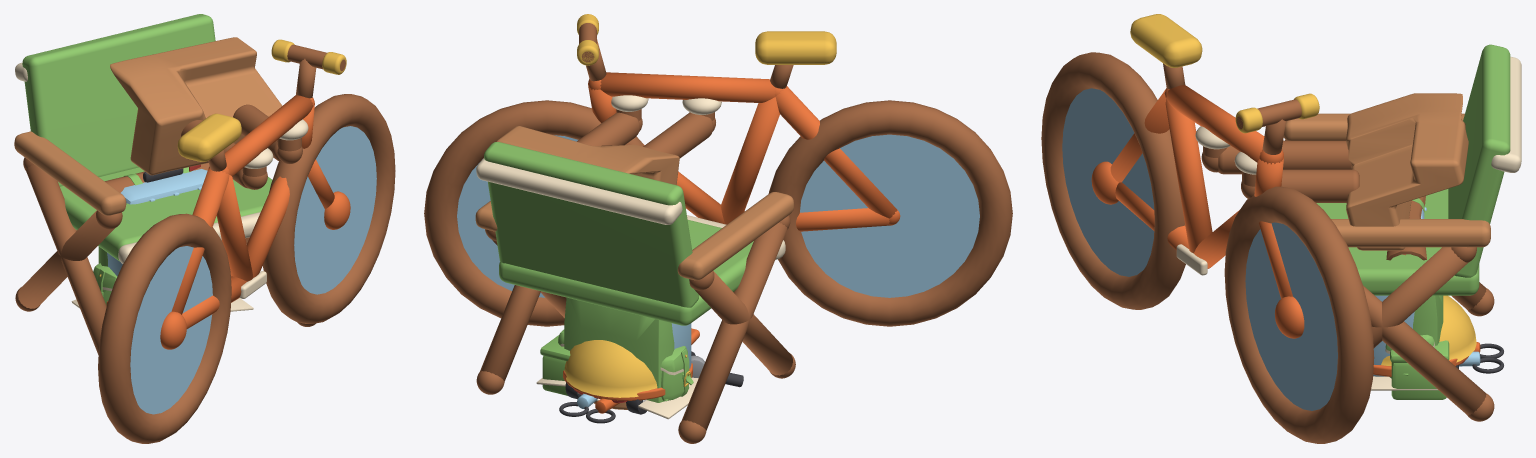
File: interest_outdoor_v3_8.glb
3 views of the same model, side by side, from view 1: azimuth 30°, elevation 25°; view 2: azimuth 150°, elevation 25°; view 3: azimuth 270°, elevation 25° (orthographic). The views are drawn at different scales.
Visible parts, largest first — view 1: camp_chair_back, bike_rack_wall_tire_rear, bike_rack_wall_plate, bike_rack_wall_tire_front, bike_rack_wall_disc_front, bike_rack_wall_disc_rear, camp_chair_seat, camp_chair_leg_la, camp_chair_arm_l, bike_rack_wall, camp_chair_leg_lb, bike_rack_wall_top (+15 smaller); view 2: camp_chair_back, bike_rack_wall_disc_rear, bike_rack_wall_tire_rear, bike_rack_wall_tire_front, backpack_backpack, camp_chair_seat, camp_chair_leg_lb, bike_rack_wall, camp_chair_back_band, bike_rack_wall_plate, bike_rack_wall_top, bike_helmet_dome (+13 smaller); view 3: bike_rack_wall_tire_front, bike_rack_wall_tire_rear, bike_rack_wall_plate, bike_rack_wall_disc_front, bike_rack_wall_disc_rear, camp_chair_back, bike_rack_wall, camp_chair_seat, camp_chair_arm_r, camp_chair_leg_rb, bike_rack_wall_seat, camp_chair_leg_ra (+19 smaller).
Part boxes in pixels (x1,y1,x2,y2): camp_chair_back: (22,14,215,186); bike_rack_wall_tire_rear: (98,213,231,443); bike_rack_wall_plate: (110,37,282,175); bike_rack_wall_tire_front: (263,94,395,323); bike_rack_wall_disc_front: (294,126,376,294); bike_rack_wall_disc_rear: (130,246,212,414); camp_chair_seat: (60,167,272,261); camp_chair_leg_la: (26,164,106,354); camp_chair_arm_l: (14,131,126,215); bike_rack_wall: (181,104,308,189); camp_chair_leg_lb: (18,210,114,308); bike_rack_wall_top: (224,95,313,176); camp_chair_back: (484,142,698,307); bike_rack_wall_disc_rear: (800,134,979,297); bike_rack_wall_tire_rear: (768,100,1012,326); bike_rack_wall_tire_front: (424,100,643,326); backpack_backpack: (558,297,693,402); camp_chair_seat: (499,220,753,325); camp_chair_leg_lb: (682,222,787,430); bike_rack_wall: (577,95,721,158); camp_chair_back_band: (476,158,682,224); bike_rack_wall_plate: (496,126,679,184); bike_rack_wall_top: (600,72,775,102); bike_helmet_dome: (564,340,657,397); bike_rack_wall_tire_front: (1224,186,1374,443); bike_rack_wall_tire_rear: (1041,52,1185,309); bike_rack_wall_plate: (1346,93,1468,250); bike_rack_wall_disc_front: (1245,222,1337,410); bike_rack_wall_disc_rear: (1062,88,1154,276); camp_chair_back: (1448,44,1510,277); bike_rack_wall: (1195,126,1359,202); camp_chair_seat: (1316,189,1479,295); camp_chair_arm_r: (1331,219,1490,247); camp_chair_leg_rb: (1363,285,1486,415); bike_rack_wall_seat: (1165,99,1212,253); camp_chair_leg_ra: (1372,247,1467,348).
Size of the model in its own units: 0.8831 by 0.5617 by 0.7706.
